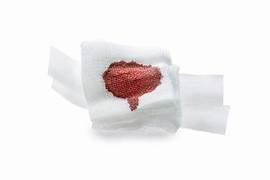Bandage: (49, 41, 228, 133)
cotton: (81, 42, 180, 131), (103, 60, 161, 110), (179, 74, 228, 133), (48, 47, 86, 106)
